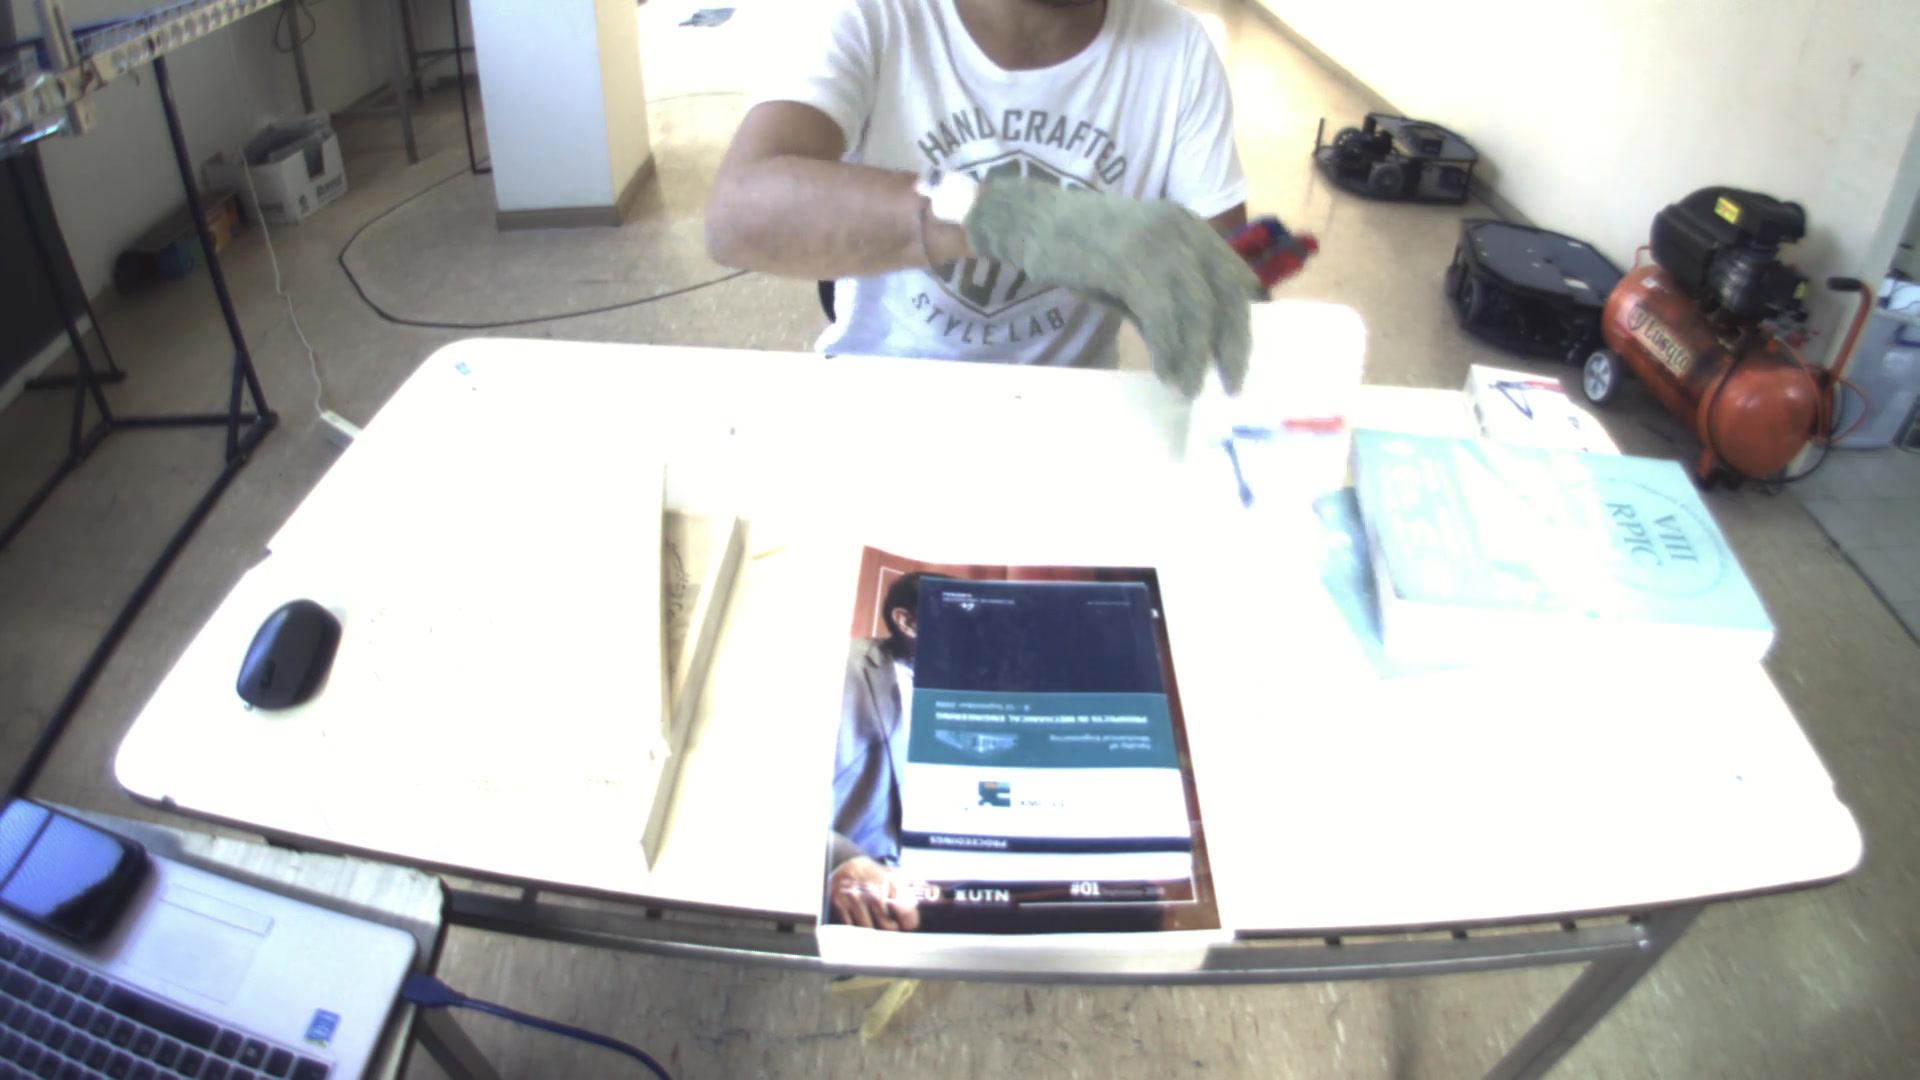hand: (963, 162, 1266, 402)
